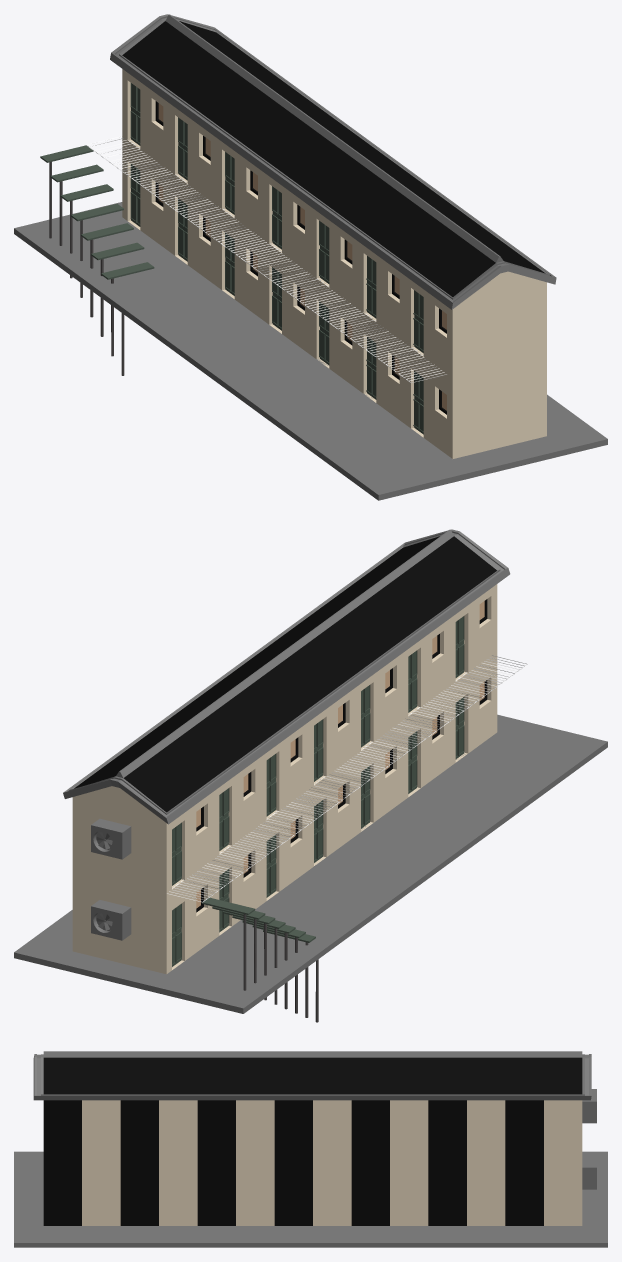
Rendered from Hotel2.fbx.
The picture shows the model from 3 angles, top to bottom: view 1: azimuth 30°, elevation 25°; view 2: azimuth 150°, elevation 25°; view 3: azimuth 270°, elevation 25°; orthographic projection. The views are drawn at different scales.
Visible parts, largest first — view 1: Plane.107; view 2: Plane.107, roof Ac.013; view 3: Plane.107, roof Ac.013.
Part boxes in pixels (<box>): Plane.107: <box>14,14,607,500</box>; Plane.107: <box>14,529,607,1022</box>; roof Ac.013: <box>91,818,131,940</box>; Plane.107: <box>14,1051,607,1247</box>; roof Ac.013: <box>582,1089,596,1189</box>.
Bounding box in the file's own units: 0.6013 × 0.6905 × 1.65.
